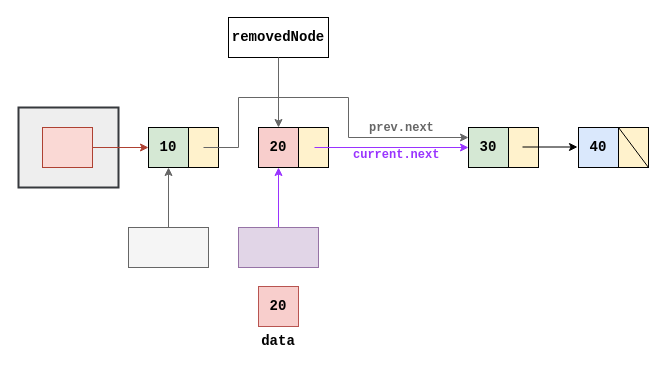
Image size: 667x374. Some labels were removed from this diagram. The centre of each missing label's shape, as x and y in pixels:
"current" belongs at pixel 278 247.
"head" belongs at pixel 67 147.
"prev" belongs at pixel 168 247.
